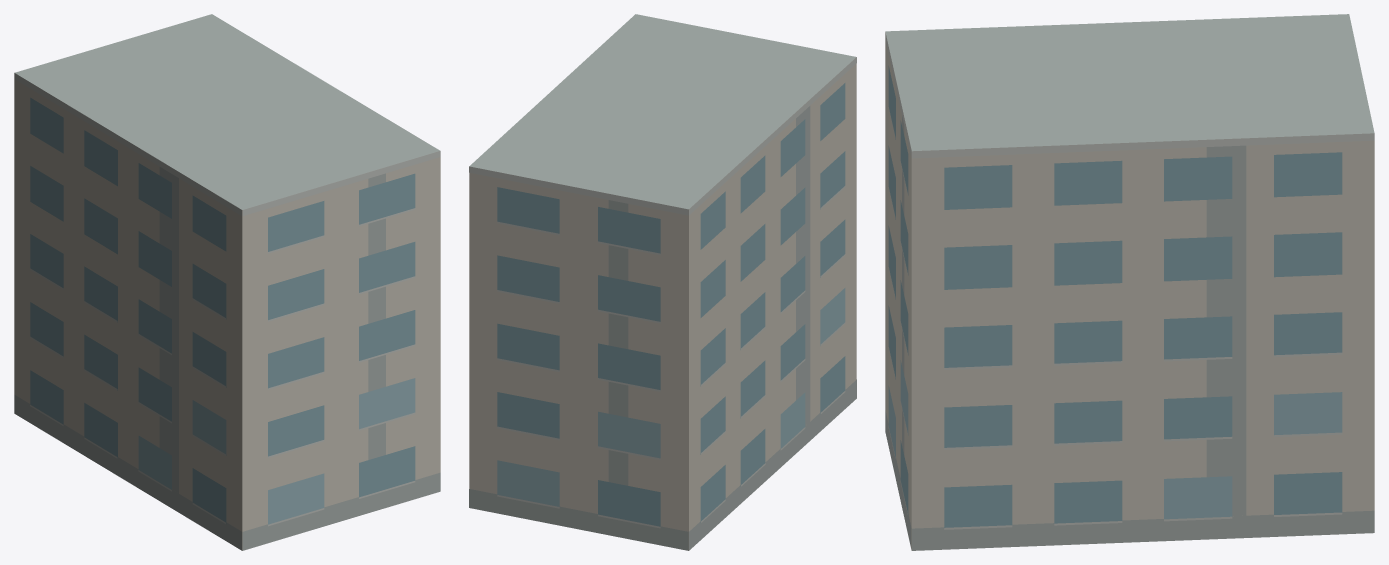
Rendered from survey-upis-32884528.glb.
The picture shows the model from 3 angles, left to right: view 1: azimuth 30°, elevation 25°; view 2: azimuth 150°, elevation 25°; view 3: azimuth 270°, elevation 25°; orthographic projection. The views are drawn at different scales.
Parts seen in each view (by area): view 1: survey-upis-32884528.tmp; view 2: survey-upis-32884528.tmp; view 3: survey-upis-32884528.tmp.
Boxes of the visible parts, <box> form: survey-upis-32884528.tmp: <box>14,14,440,550</box>; survey-upis-32884528.tmp: <box>469,14,856,550</box>; survey-upis-32884528.tmp: <box>885,14,1374,550</box>.
Bounding box in the file's own units: 9.8 × 13.3 × 14.77.
